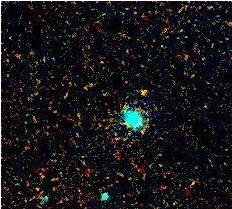star: (132, 74, 162, 104)
